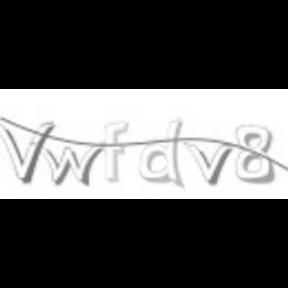8: (234, 124, 276, 186)
V: (0, 119, 54, 183)
d: (136, 117, 186, 189)
f: (97, 120, 133, 182)
v: (184, 140, 234, 184)
w: (40, 145, 102, 186)
